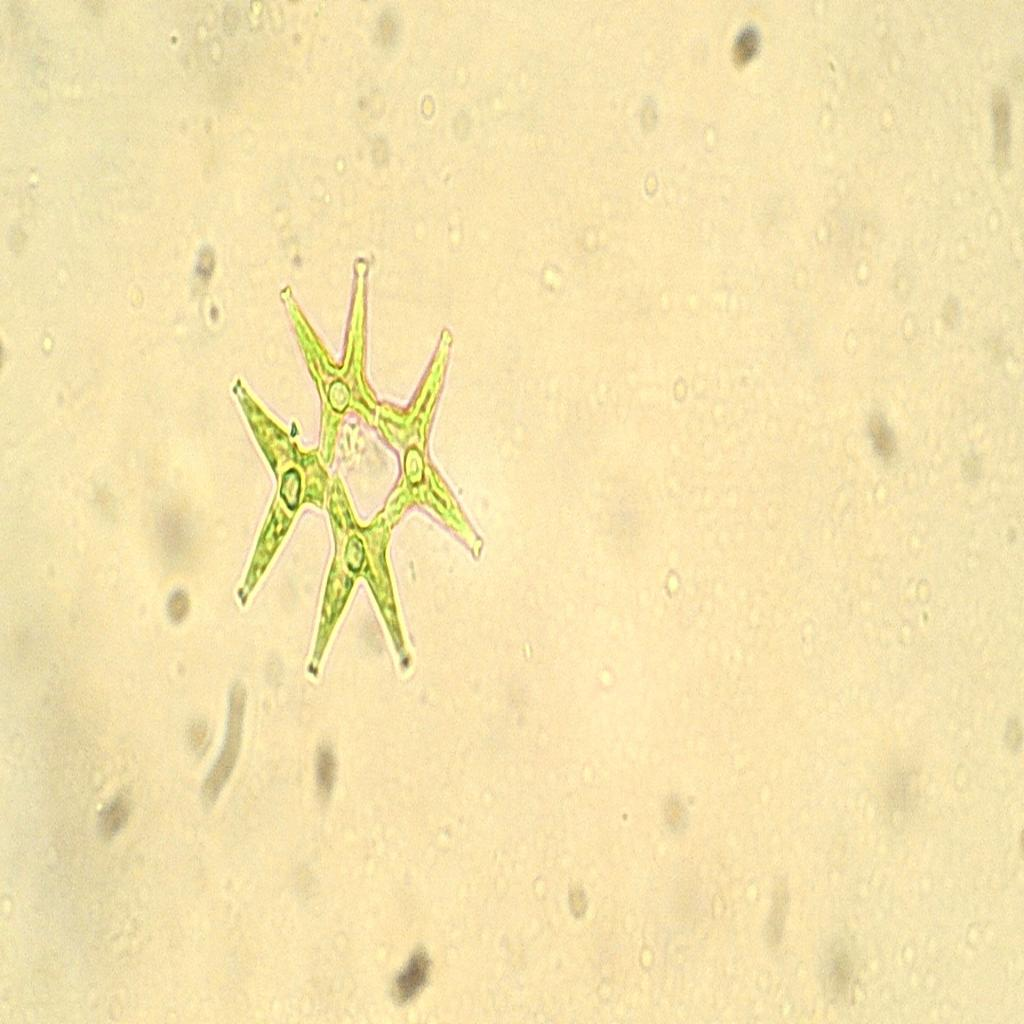Pediastrum_75FI: (228, 248, 490, 692)
